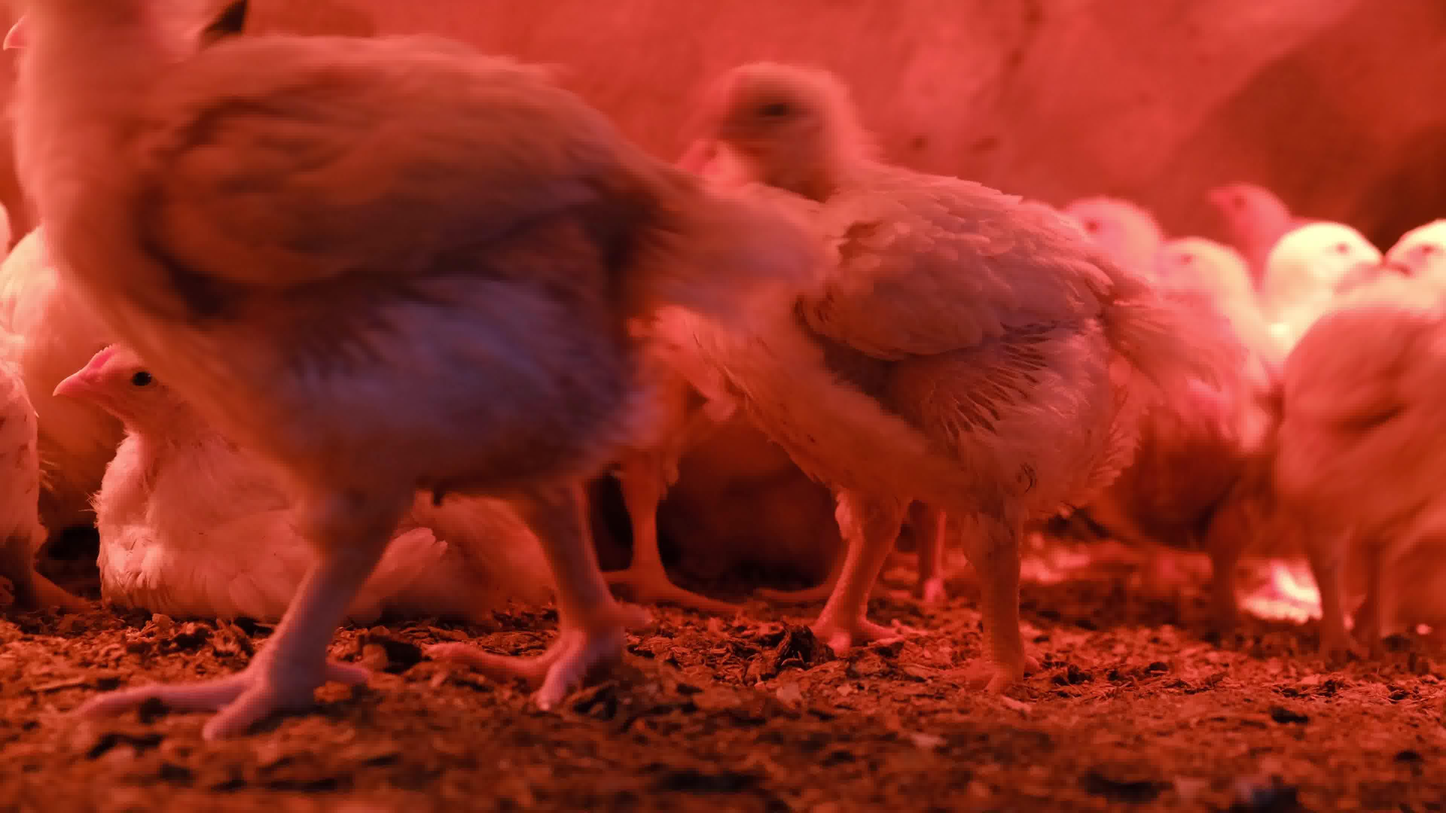AbNormal: (49, 328, 612, 617), (4, 324, 91, 613)
Normal: (0, 0, 839, 754), (718, 57, 1243, 688), (1277, 294, 1446, 645), (1122, 231, 1263, 620), (1271, 216, 1385, 459), (1066, 183, 1158, 295), (1210, 166, 1292, 282), (1390, 219, 1446, 301)
